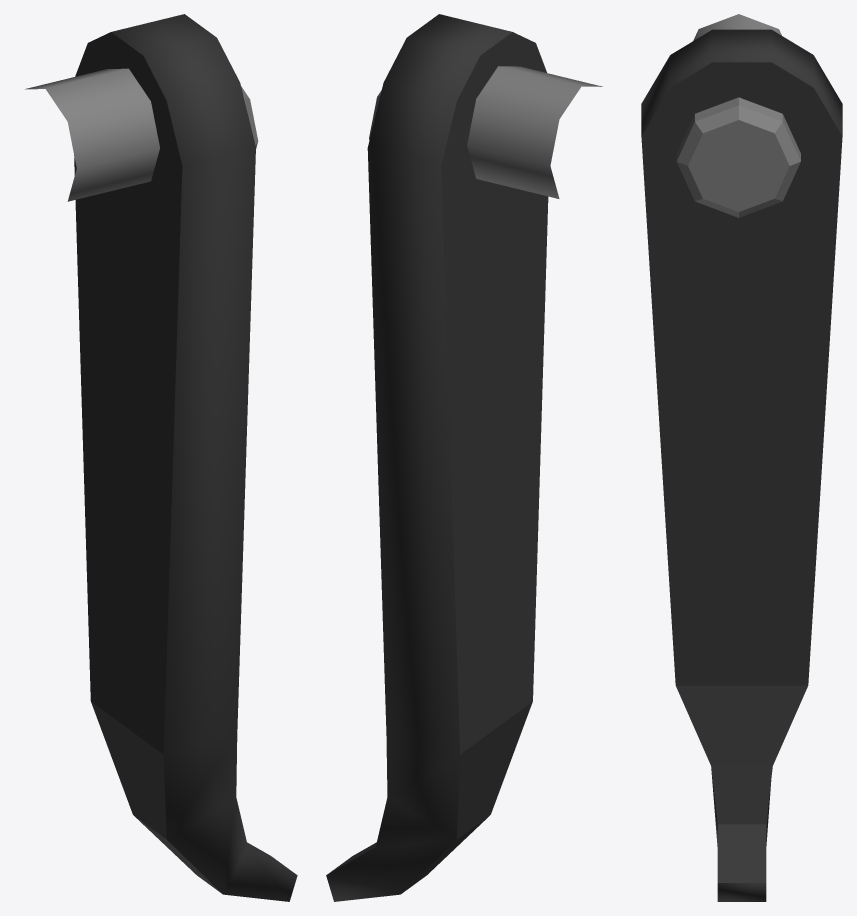
File: exercise-bike-pedal-a.glb
The picture shows the model from 3 angles, left to right: view 1: azimuth 30°, elevation 25°; view 2: azimuth 150°, elevation 25°; view 3: azimuth 270°, elevation 25°; orthographic projection. The views are drawn at different scales.
Visible parts, largest first — view 1: Exercise_Bike_Pedal_A; view 2: Exercise_Bike_Pedal_A; view 3: Exercise_Bike_Pedal_A.
Part boxes in pixels (x1,y1,x2,y2): Exercise_Bike_Pedal_A: [25, 14, 297, 901]; Exercise_Bike_Pedal_A: [326, 14, 602, 901]; Exercise_Bike_Pedal_A: [641, 14, 842, 901].
Bounding box in the file's own units: 8.14 × 28.61 × 6.47.
Materials: 1 (1 with a texture image).
